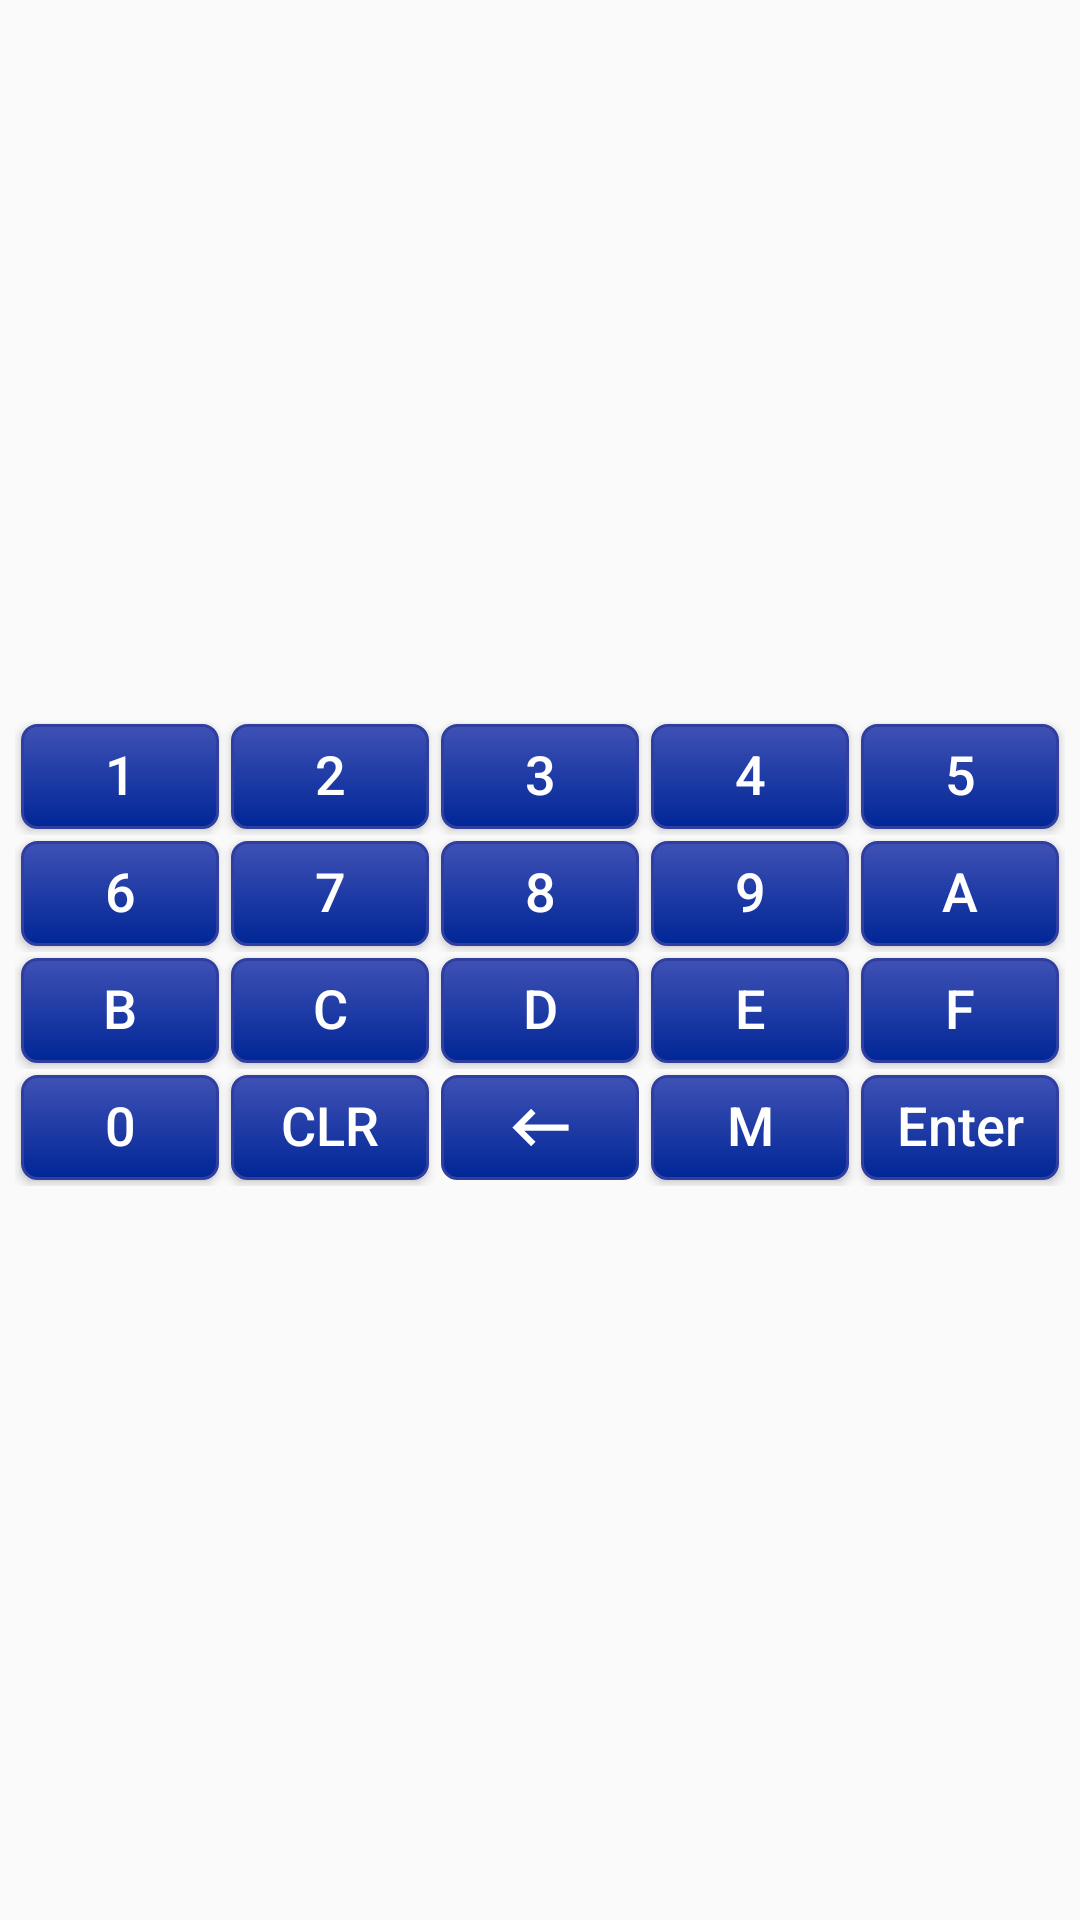

Icons on this 1080px×1920px Android screen, each with the point to tap as point (x, y):
custom back: point (540, 1127)
